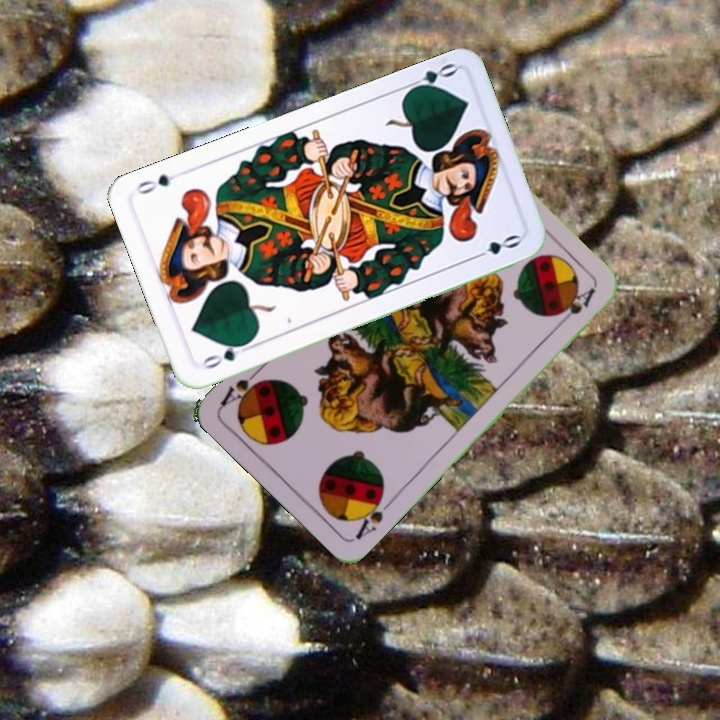GO: (401, 59, 459, 95), (196, 338, 254, 372)
SA: (350, 487, 397, 543)
